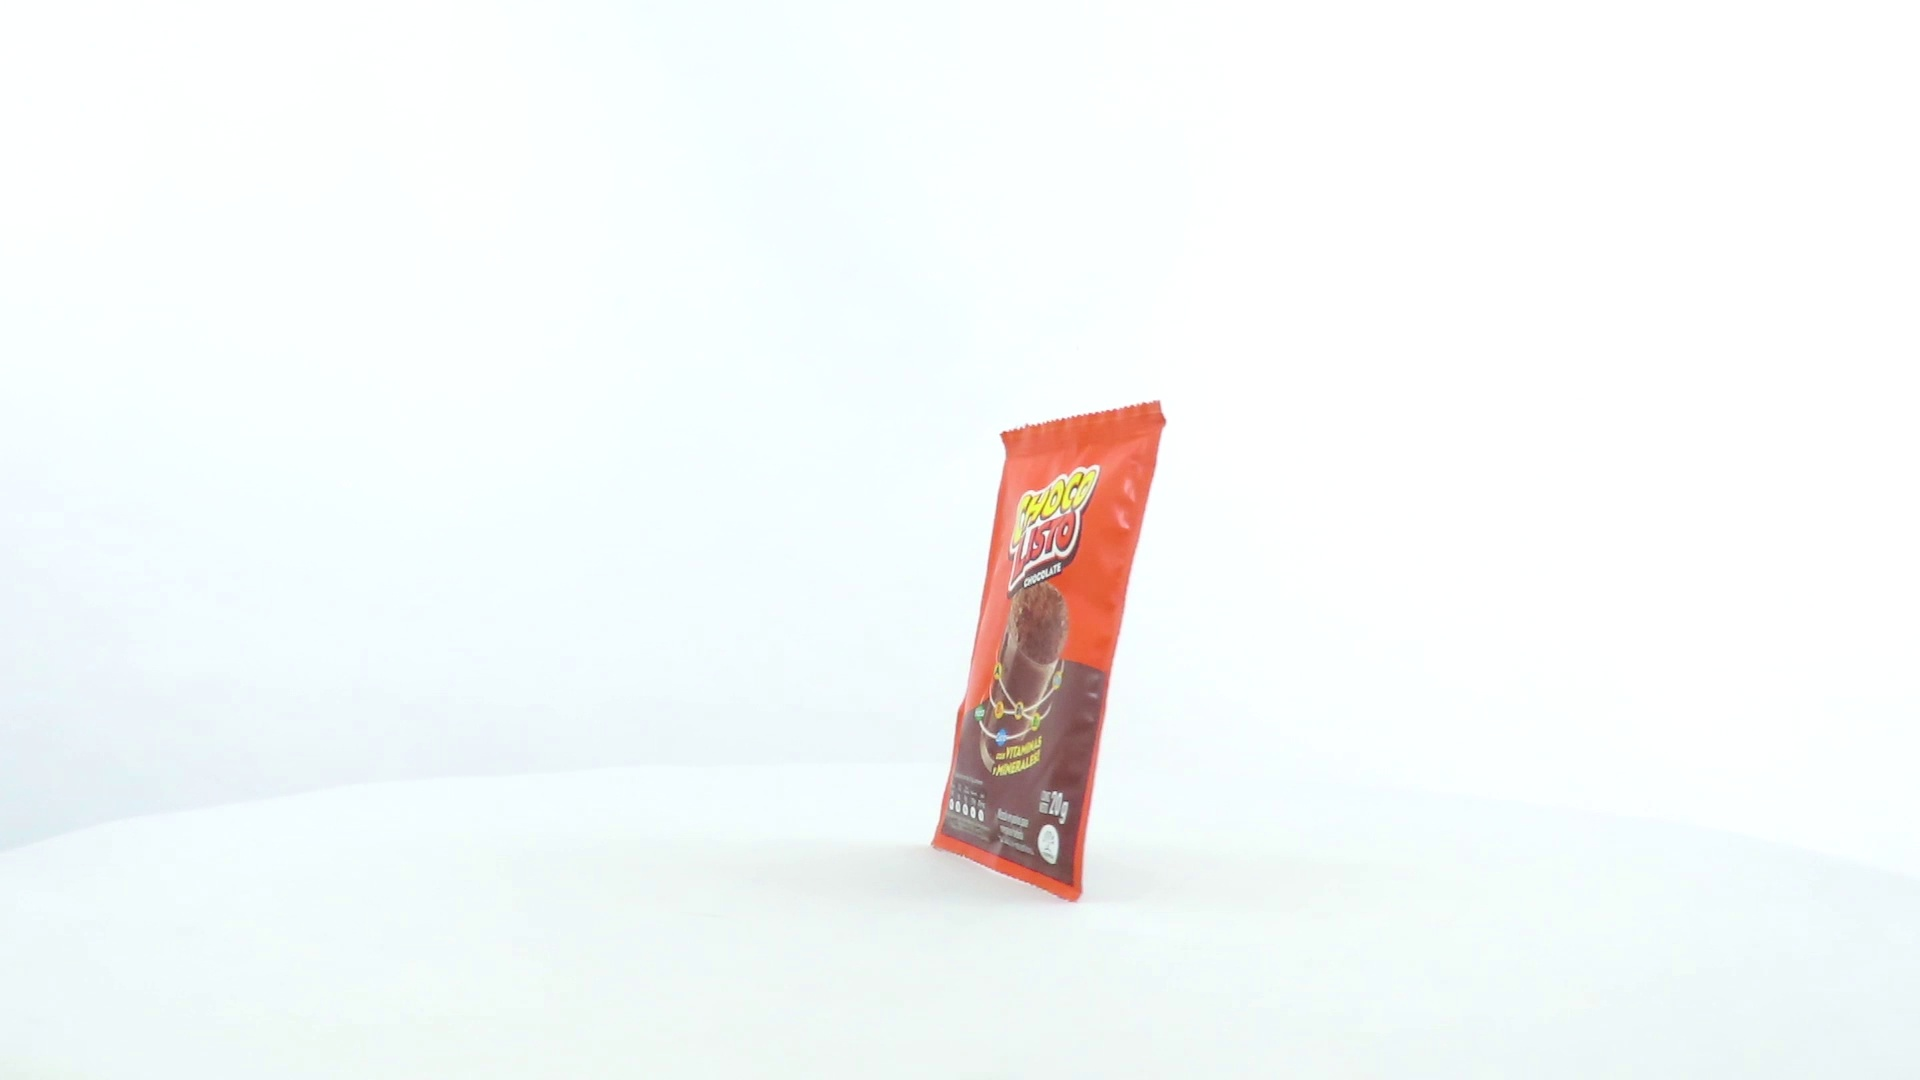COL0170103SOB02000: (924, 396, 1172, 909)
